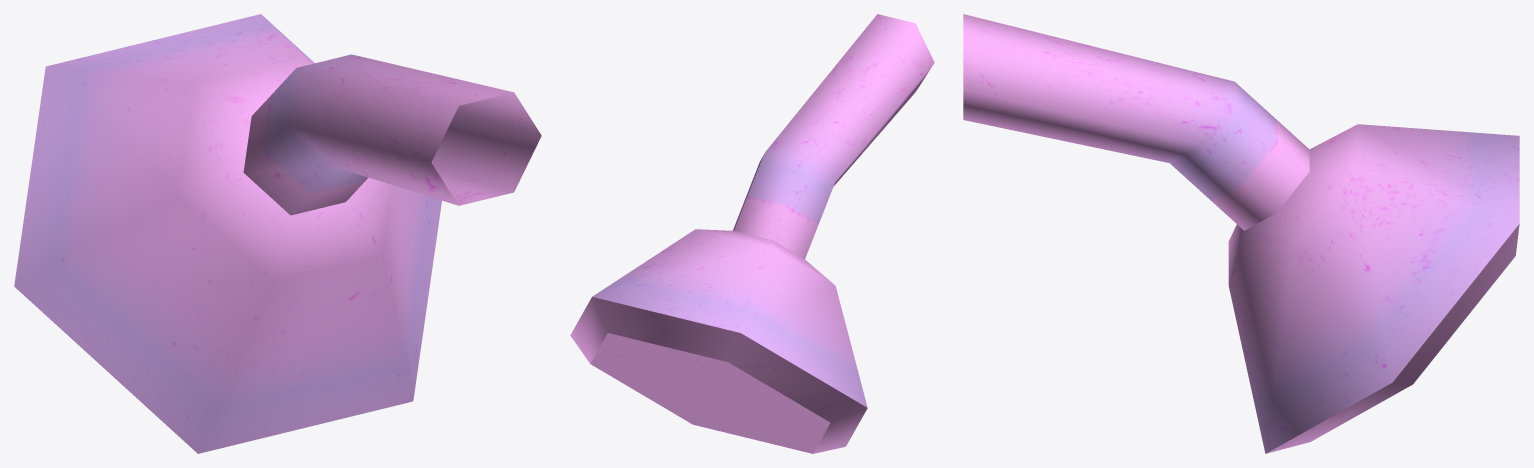
File: ShowerHead_01_SM_Low.fbx
3 renders of one model, left to right at view 1: azimuth 30°, elevation 25°; view 2: azimuth 150°, elevation 25°; view 3: azimuth 270°, elevation 25°, orthographic. The views are drawn at different scales.
Visible parts, largest first — view 1: ShowerHead; view 2: ShowerHead; view 3: ShowerHead.
Boxes of the visible parts, box(x1,y1,x2,y2) form: ShowerHead: box(14, 14, 541, 453); ShowerHead: box(570, 14, 934, 453); ShowerHead: box(963, 14, 1519, 453).
Bounding box in the file's own units: 0.2329 × 0.2383 × 0.3121.
1 material, 1 textured.
